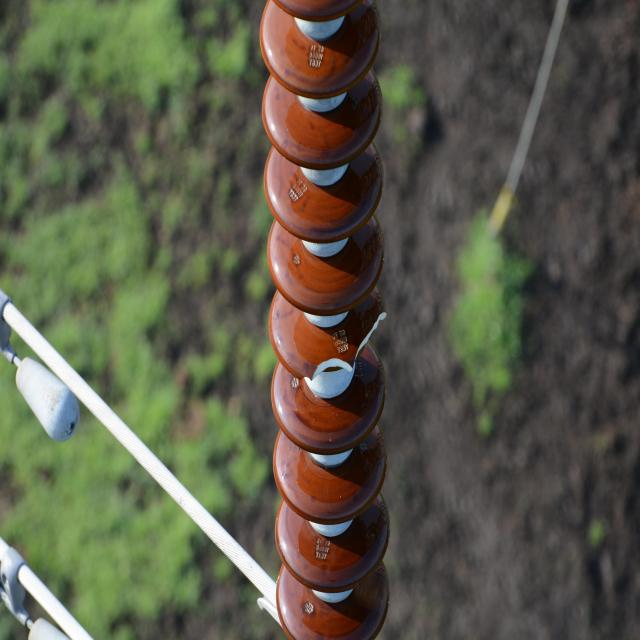broken: (299, 307, 389, 382)
insulator: (258, 1, 390, 640)
